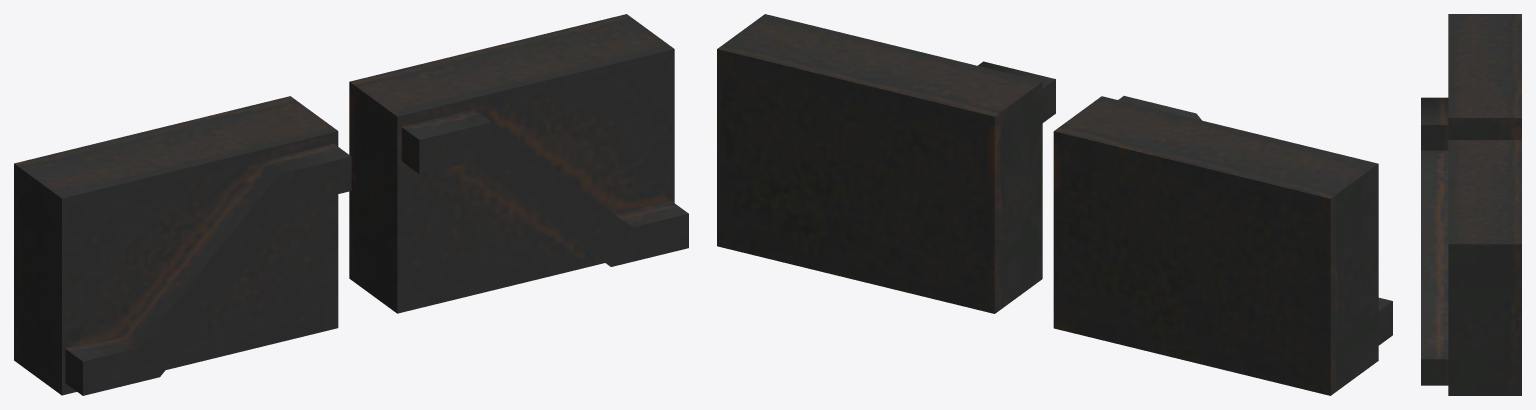
Rendered from track1_segment_1.glb.
3 views of the same model, side by side, from view 1: azimuth 30°, elevation 25°; view 2: azimuth 150°, elevation 25°; view 3: azimuth 270°, elevation 25° (orthographic). The views are drawn at different scales.
Visible parts, largest first — view 1: set_0_group_0; view 2: set_0_group_0; view 3: set_0_group_0.
Part boxes in pixels (x1,y1,x2,y2): set_0_group_0: (14, 14, 688, 395); set_0_group_0: (717, 14, 1392, 395); set_0_group_0: (1421, 14, 1521, 395).
Size of the model in its own units: 0.4785 by 0.147 by 0.0887.
1 material, 1 textured.
